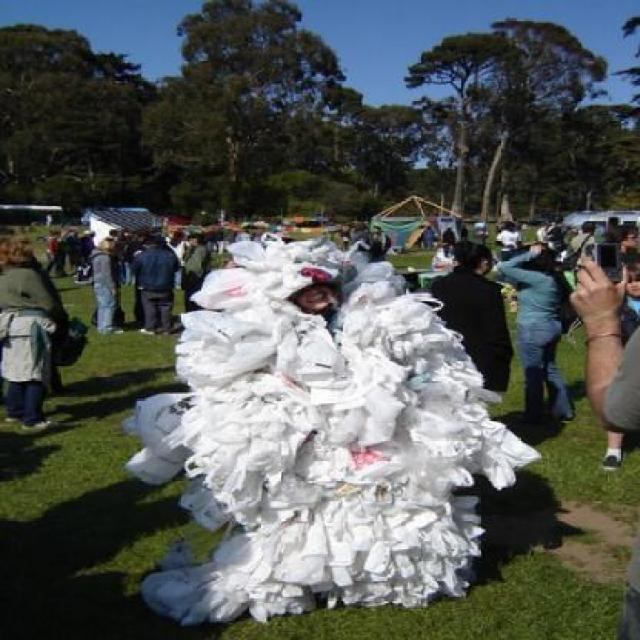plastic bag: (119, 232, 538, 623)
